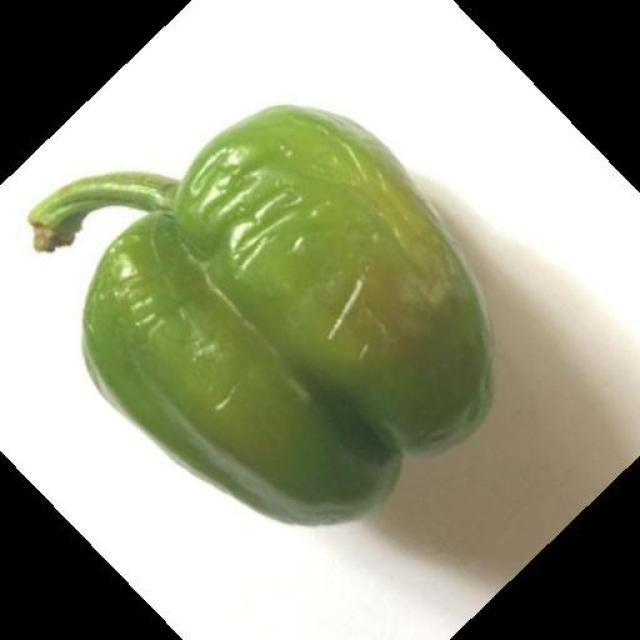Stale_Capsicum: (163, 72, 484, 476)
